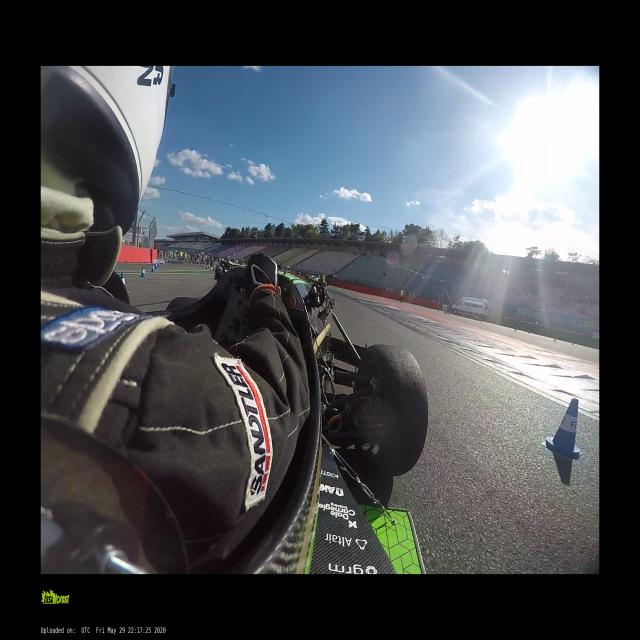blue_cone: (544, 397, 583, 459), (140, 266, 146, 277), (121, 273, 125, 285), (150, 264, 155, 272), (154, 262, 158, 269), (157, 261, 160, 267), (163, 262, 165, 266), (166, 260, 167, 264)
yellow_cone: (554, 337, 556, 342), (514, 327, 516, 331), (481, 319, 482, 323)
